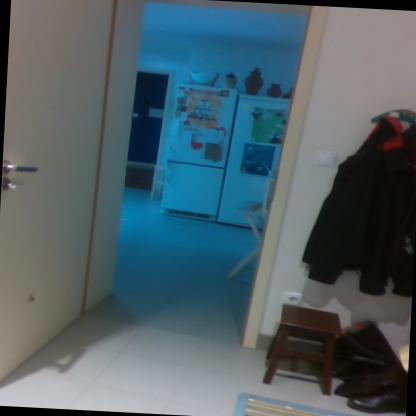open: (74, 6, 320, 406)
